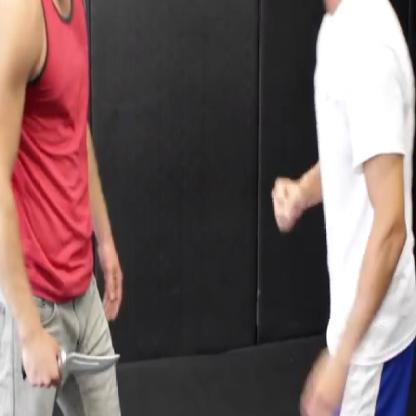knife: (15, 338, 126, 390)
